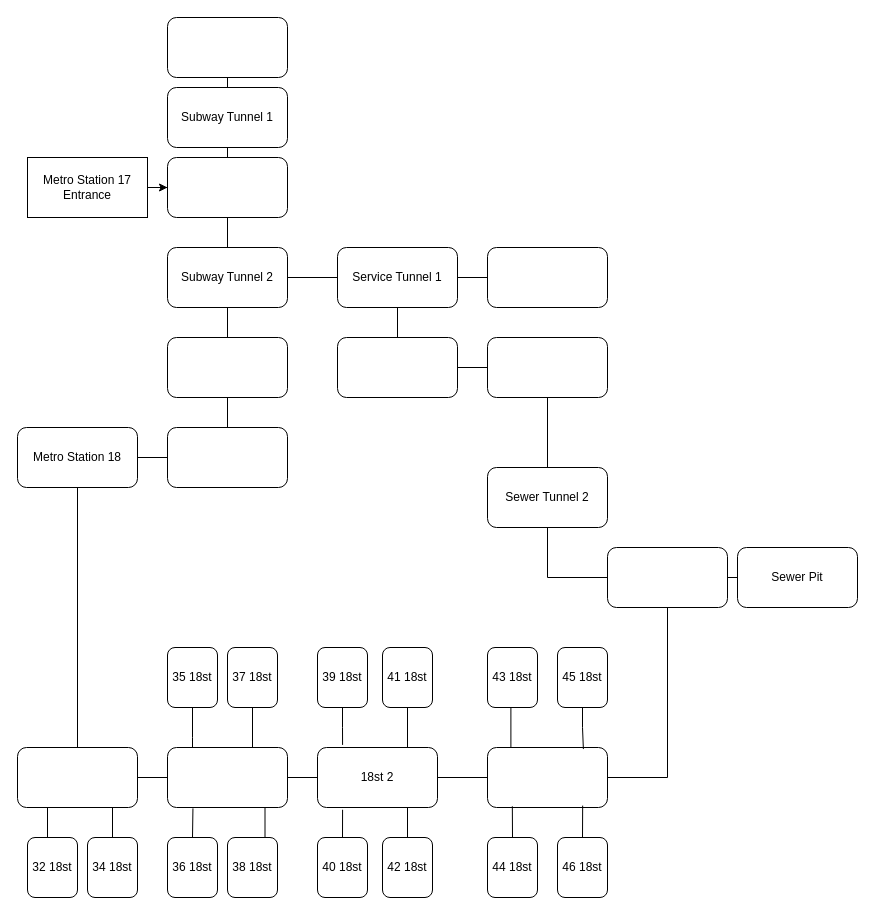
Some shapes in this 875 by 915 pixel diagram are drawn without their labels. Each missing label, with the centre of its shape:
"18st 1" goes at pixel 227 777.
"18st 3" goes at pixel 547 777.
"18st Plaza" goes at pixel 77 777.
"Generator Room" goes at pixel 547 277.
"I288 Overpass Raider encampment" goes at pixel 227 47.
"Sewer Access Tunnel" goes at pixel 397 367.
"Sewer Tunnel 1" goes at pixel 547 367.
"Sewer Tunnel 3" goes at pixel 667 577.
"Subway Platform 1" goes at pixel 227 187.
"Subway Platform 2" goes at pixel 227 457.
"Subway Tunnel 3" goes at pixel 227 367.
